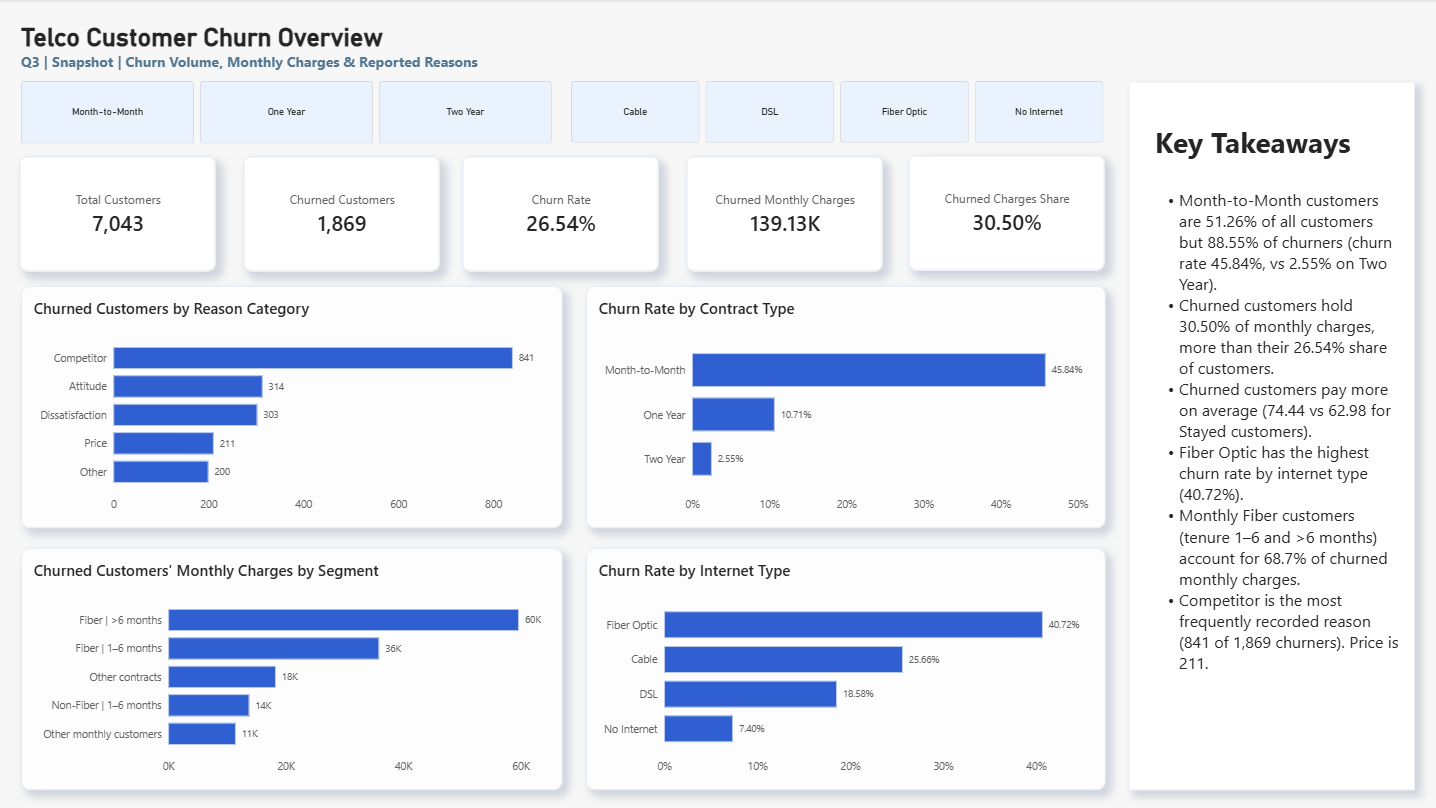

The dashboard page shown, as its layout file describes it:
{"tool":"powerbi","page":{"name":"Churn Overview","canvas":[1920,1080],"ordinal":0},"visuals":[{"type":"textbox","box":[31.5,31.5,667.2,78.1],"z":0},{"type":"cardVisual","fields":{"Data":["Telco.Total Customers"]},"box":[29.7,208.7,262.4,153.8],"z":1000},{"type":"cardVisual","fields":{"Data":["Telco.Churned Customers"]},"box":[326.6,209.3,262.4,153.8],"z":2000},{"type":"cardVisual","fields":{"Data":["Telco.Churn Rate"]},"box":[618.4,209.3,262.4,153.8],"z":3000},{"type":"cardVisual","fields":{"Data":["Telco.Churned Monthly Charges"]},"box":[916,209.1,262.4,153.8],"z":4000},{"type":"clusteredBarChart","title":"Churned Customers by Reason Category","fields":{"Category":["Telco.churn_category"],"Y":["Telco.Churned Customers"]},"box":[31.5,381.3,720.2,321.9],"z":5000},{"type":"clusteredBarChart","title":"Churn Rate by Contract Type","fields":{"Category":["Telco.contract"],"Y":["Telco.Churn Rate"]},"box":[783.3,381.3,691.3,322.1],"z":6000},{"type":"clusteredBarChart","title":"Churned Customers'' Monthly Charges by Segment","fields":{"Category":["Telco.monthly_segment"],"Y":["Telco.Churned Monthly Charges"]},"box":[31.5,729.8,720.2,321.9],"z":7000},{"type":"cardVisual","fields":{"Data":["Telco.Churned Charges Share"]},"box":[1211.4,207.4,262.4,153.8],"z":8000},{"type":"advancedSlicerVisual","fields":{"Values":["Telco.contract"]},"box":[31.9,109.1,708.9,83.8],"z":9000},{"type":"clusteredBarChart","title":"Churn Rate by Internet Type","fields":{"Category":["Telco.internet_type"],"Y":["Telco.Churn Rate"]},"box":[783.3,729.8,691.3,322.1],"z":10000},{"type":"advancedSlicerVisual","fields":{"Values":["Telco.internet_type"]},"box":[763.4,109.1,710.2,82.5],"z":11000},{"type":"shape","box":[1505.6,110.4,380.4,941.7],"z":12000},{"type":"textbox","box":[1540.2,164.9,324.5,832.6],"z":13000}]}

Visuals, with their boxes in screenshot pixels (x1, y1, x2, y2), scaled from the page's 1920x1080 canvas onto the 1436x808 screenshot:
textbox: (x1=24, y1=24, x2=523, y2=82)
cardVisual - Telco.Total Customers: (x1=22, y1=156, x2=218, y2=271)
cardVisual - Telco.Churned Customers: (x1=244, y1=157, x2=441, y2=272)
cardVisual - Telco.Churn Rate: (x1=463, y1=157, x2=659, y2=272)
cardVisual - Telco.Churned Monthly Charges: (x1=685, y1=156, x2=881, y2=272)
"Churned Customers by Reason Category" clusteredBarChart: (x1=24, y1=285, x2=562, y2=526)
"Churn Rate by Contract Type" clusteredBarChart: (x1=586, y1=285, x2=1103, y2=526)
"Churned Customers'' Monthly Charges by Segment" clusteredBarChart: (x1=24, y1=546, x2=562, y2=787)
cardVisual - Telco.Churned Charges Share: (x1=906, y1=155, x2=1102, y2=270)
advancedSlicerVisual - Telco.contract: (x1=24, y1=82, x2=554, y2=144)
"Churn Rate by Internet Type" clusteredBarChart: (x1=586, y1=546, x2=1103, y2=787)
advancedSlicerVisual - Telco.internet_type: (x1=571, y1=82, x2=1102, y2=143)
shape: (x1=1126, y1=83, x2=1411, y2=787)
textbox: (x1=1152, y1=123, x2=1395, y2=746)
